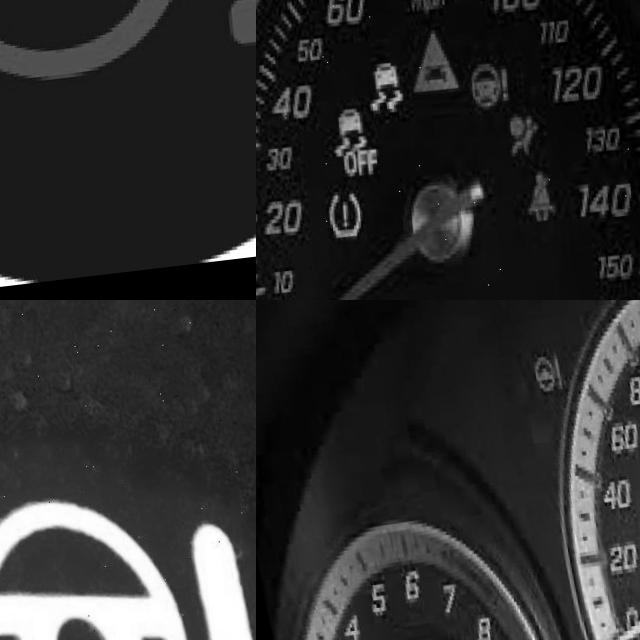Electronic Power Steering: (0, 0, 256, 96), (527, 360, 560, 404)
Electronic Power Steering Warning: (0, 486, 256, 640), (459, 67, 507, 119)
Seat Belt: (516, 177, 548, 237)
